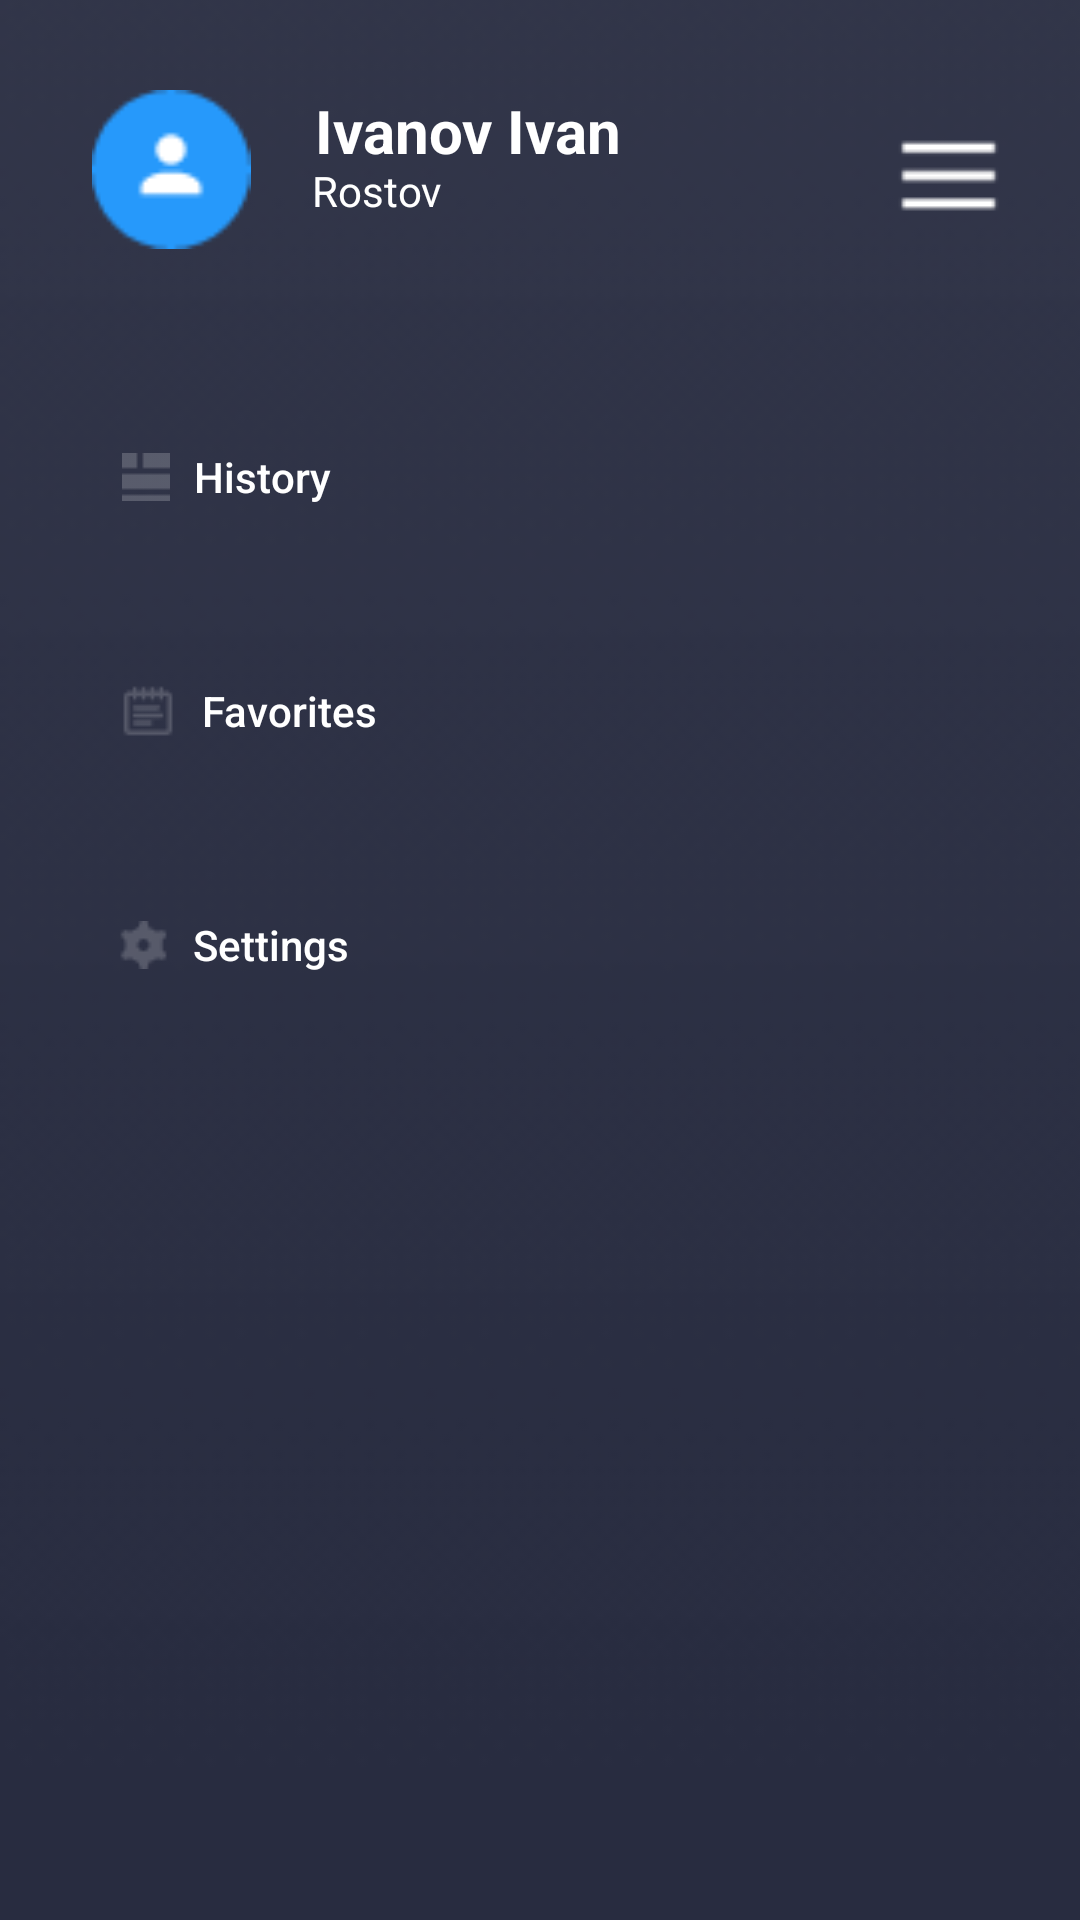

Named icons in this screenshot (1080*1920) and their bounding boxes, (x1, y1, x2, y2):
menu: (901, 141, 997, 211)
